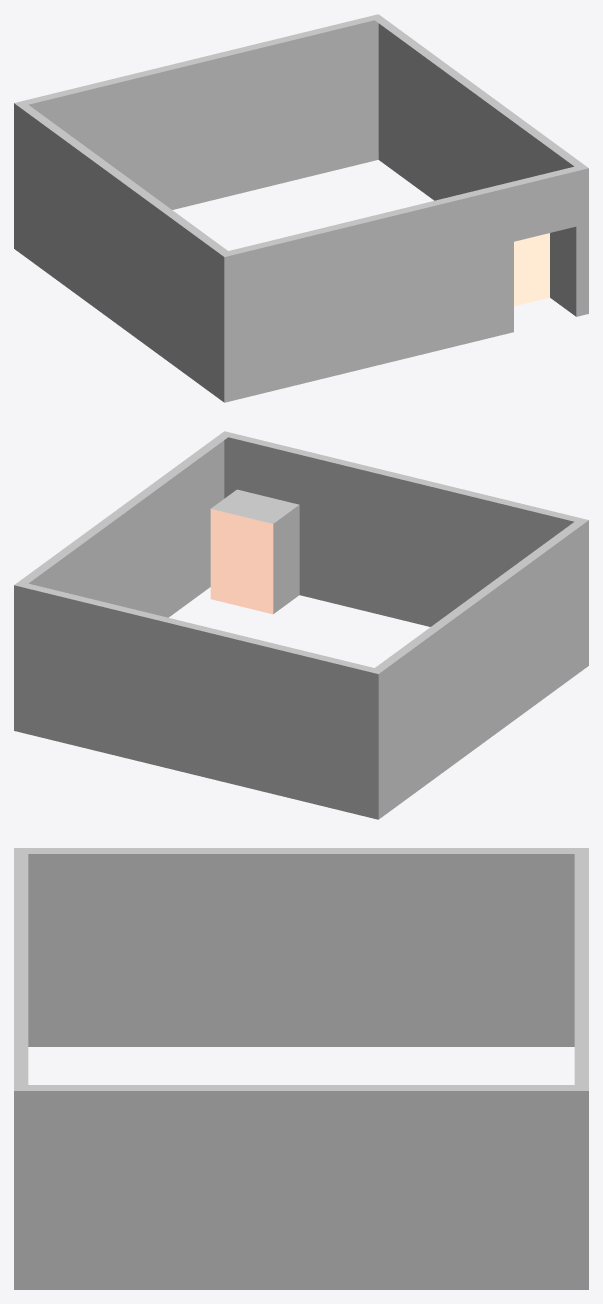
The model's file is collisions_18.glb.
The picture shows the model from 3 angles, top to bottom: view 1: azimuth 30°, elevation 25°; view 2: azimuth 150°, elevation 25°; view 3: azimuth 270°, elevation 25°; orthographic projection. The views are drawn at different scales.
Visible parts, largest first — view 1: pCube14; view 2: pCube14; view 3: pCube14.
Part boxes in pixels (x1,y1,x2,y2): pCube14: [14, 14, 588, 402]; pCube14: [14, 431, 588, 819]; pCube14: [14, 848, 588, 1289].
Size of what is drawn, in the model's own units: 16 by 6.11 by 16.
